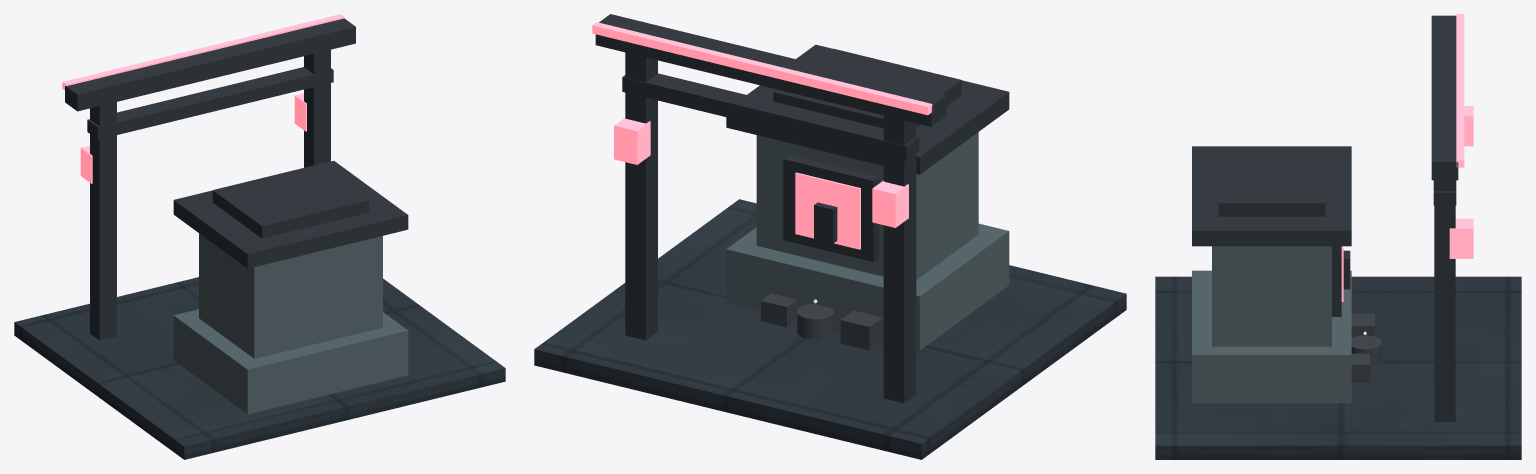
File: synthwave-shrine.glb
3 renders of one model, left to right at view 1: azimuth 30°, elevation 25°; view 2: azimuth 150°, elevation 25°; view 3: azimuth 270°, elevation 25°, orthographic. The views are drawn at different scales.
Visible parts, largest first — view 1: Shr_Frame, Pad, Shr_Body, ToriiNeon, Shr_DimA; view 2: Pad, Shr_Frame, Shr_Body, Shr_DimA, ToriiNeon, Shr_Door; view 3: Pad, Shr_Frame, Shr_Body, Shr_Door, Shr_DimA, ToriiNeon.
Boxes of the visible parts, box(x1,y1,x2,y2) form: Shr_Frame: box(65, 18, 408, 340); Pad: box(14, 277, 505, 459); Shr_Body: box(173, 233, 408, 414); ToriiNeon: box(62, 14, 344, 90); Shr_DimA: box(80, 93, 306, 183); Pad: box(534, 199, 1126, 459); Shr_Frame: box(595, 14, 1009, 403); Shr_Body: box(726, 132, 1009, 350); Shr_DimA: box(614, 118, 908, 249); ToriiNeon: box(592, 22, 932, 115); Shr_Door: box(761, 293, 882, 350); Pad: box(1155, 276, 1521, 459); Shr_Frame: box(1192, 15, 1458, 421); Shr_Body: box(1192, 246, 1351, 403); Shr_Door: box(1351, 313, 1381, 382); Shr_DimA: box(1341, 106, 1473, 301); ToriiNeon: box(1456, 14, 1464, 167).
Size of the model in its own units: 0.6 by 0.478 by 0.55.
7 materials, 1 textured.
